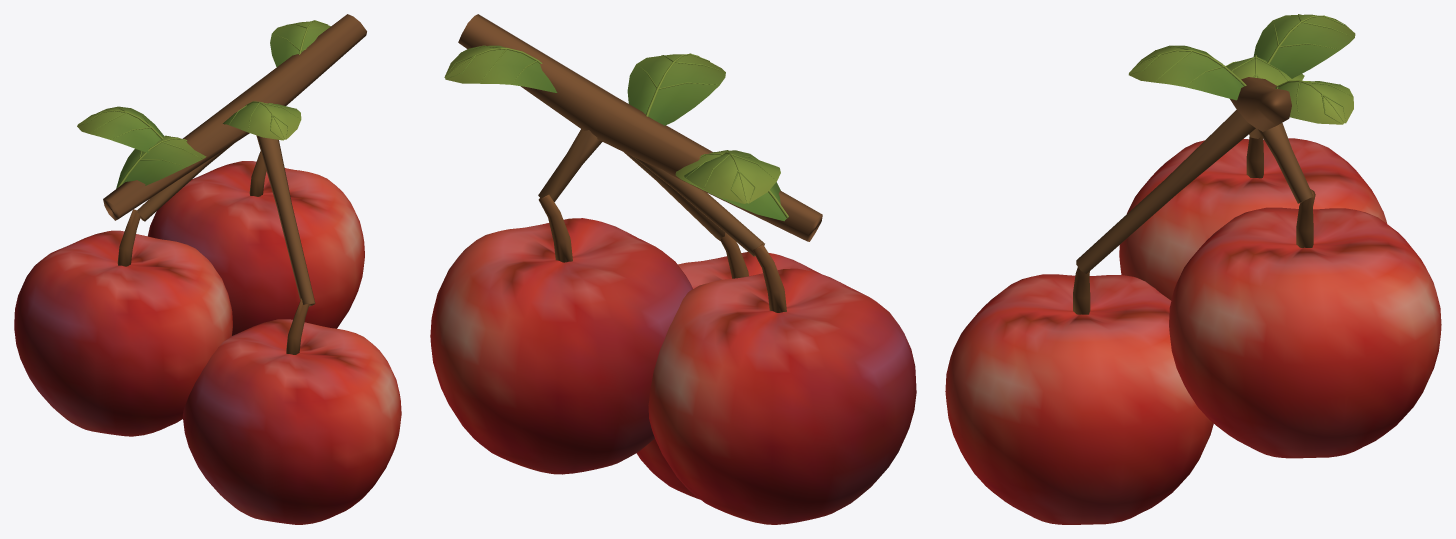
The model's file is apple_branch.glb.
3 renders of one model, left to right at view 1: azimuth 30°, elevation 25°; view 2: azimuth 150°, elevation 25°; view 3: azimuth 270°, elevation 25°, orthographic. The views are drawn at different scales.
Visible parts, largest first — view 1: Plant; view 2: Plant; view 3: Plant.
Boxes of the visible parts, x1=… form: Plant: x1=14, y1=14, x2=401, y2=524; Plant: x1=430, y1=14, x2=916, y2=524; Plant: x1=945, y1=14, x2=1441, y2=524.
Bounding box in the file's own units: 0.4946 × 0.5598 × 0.4996.
